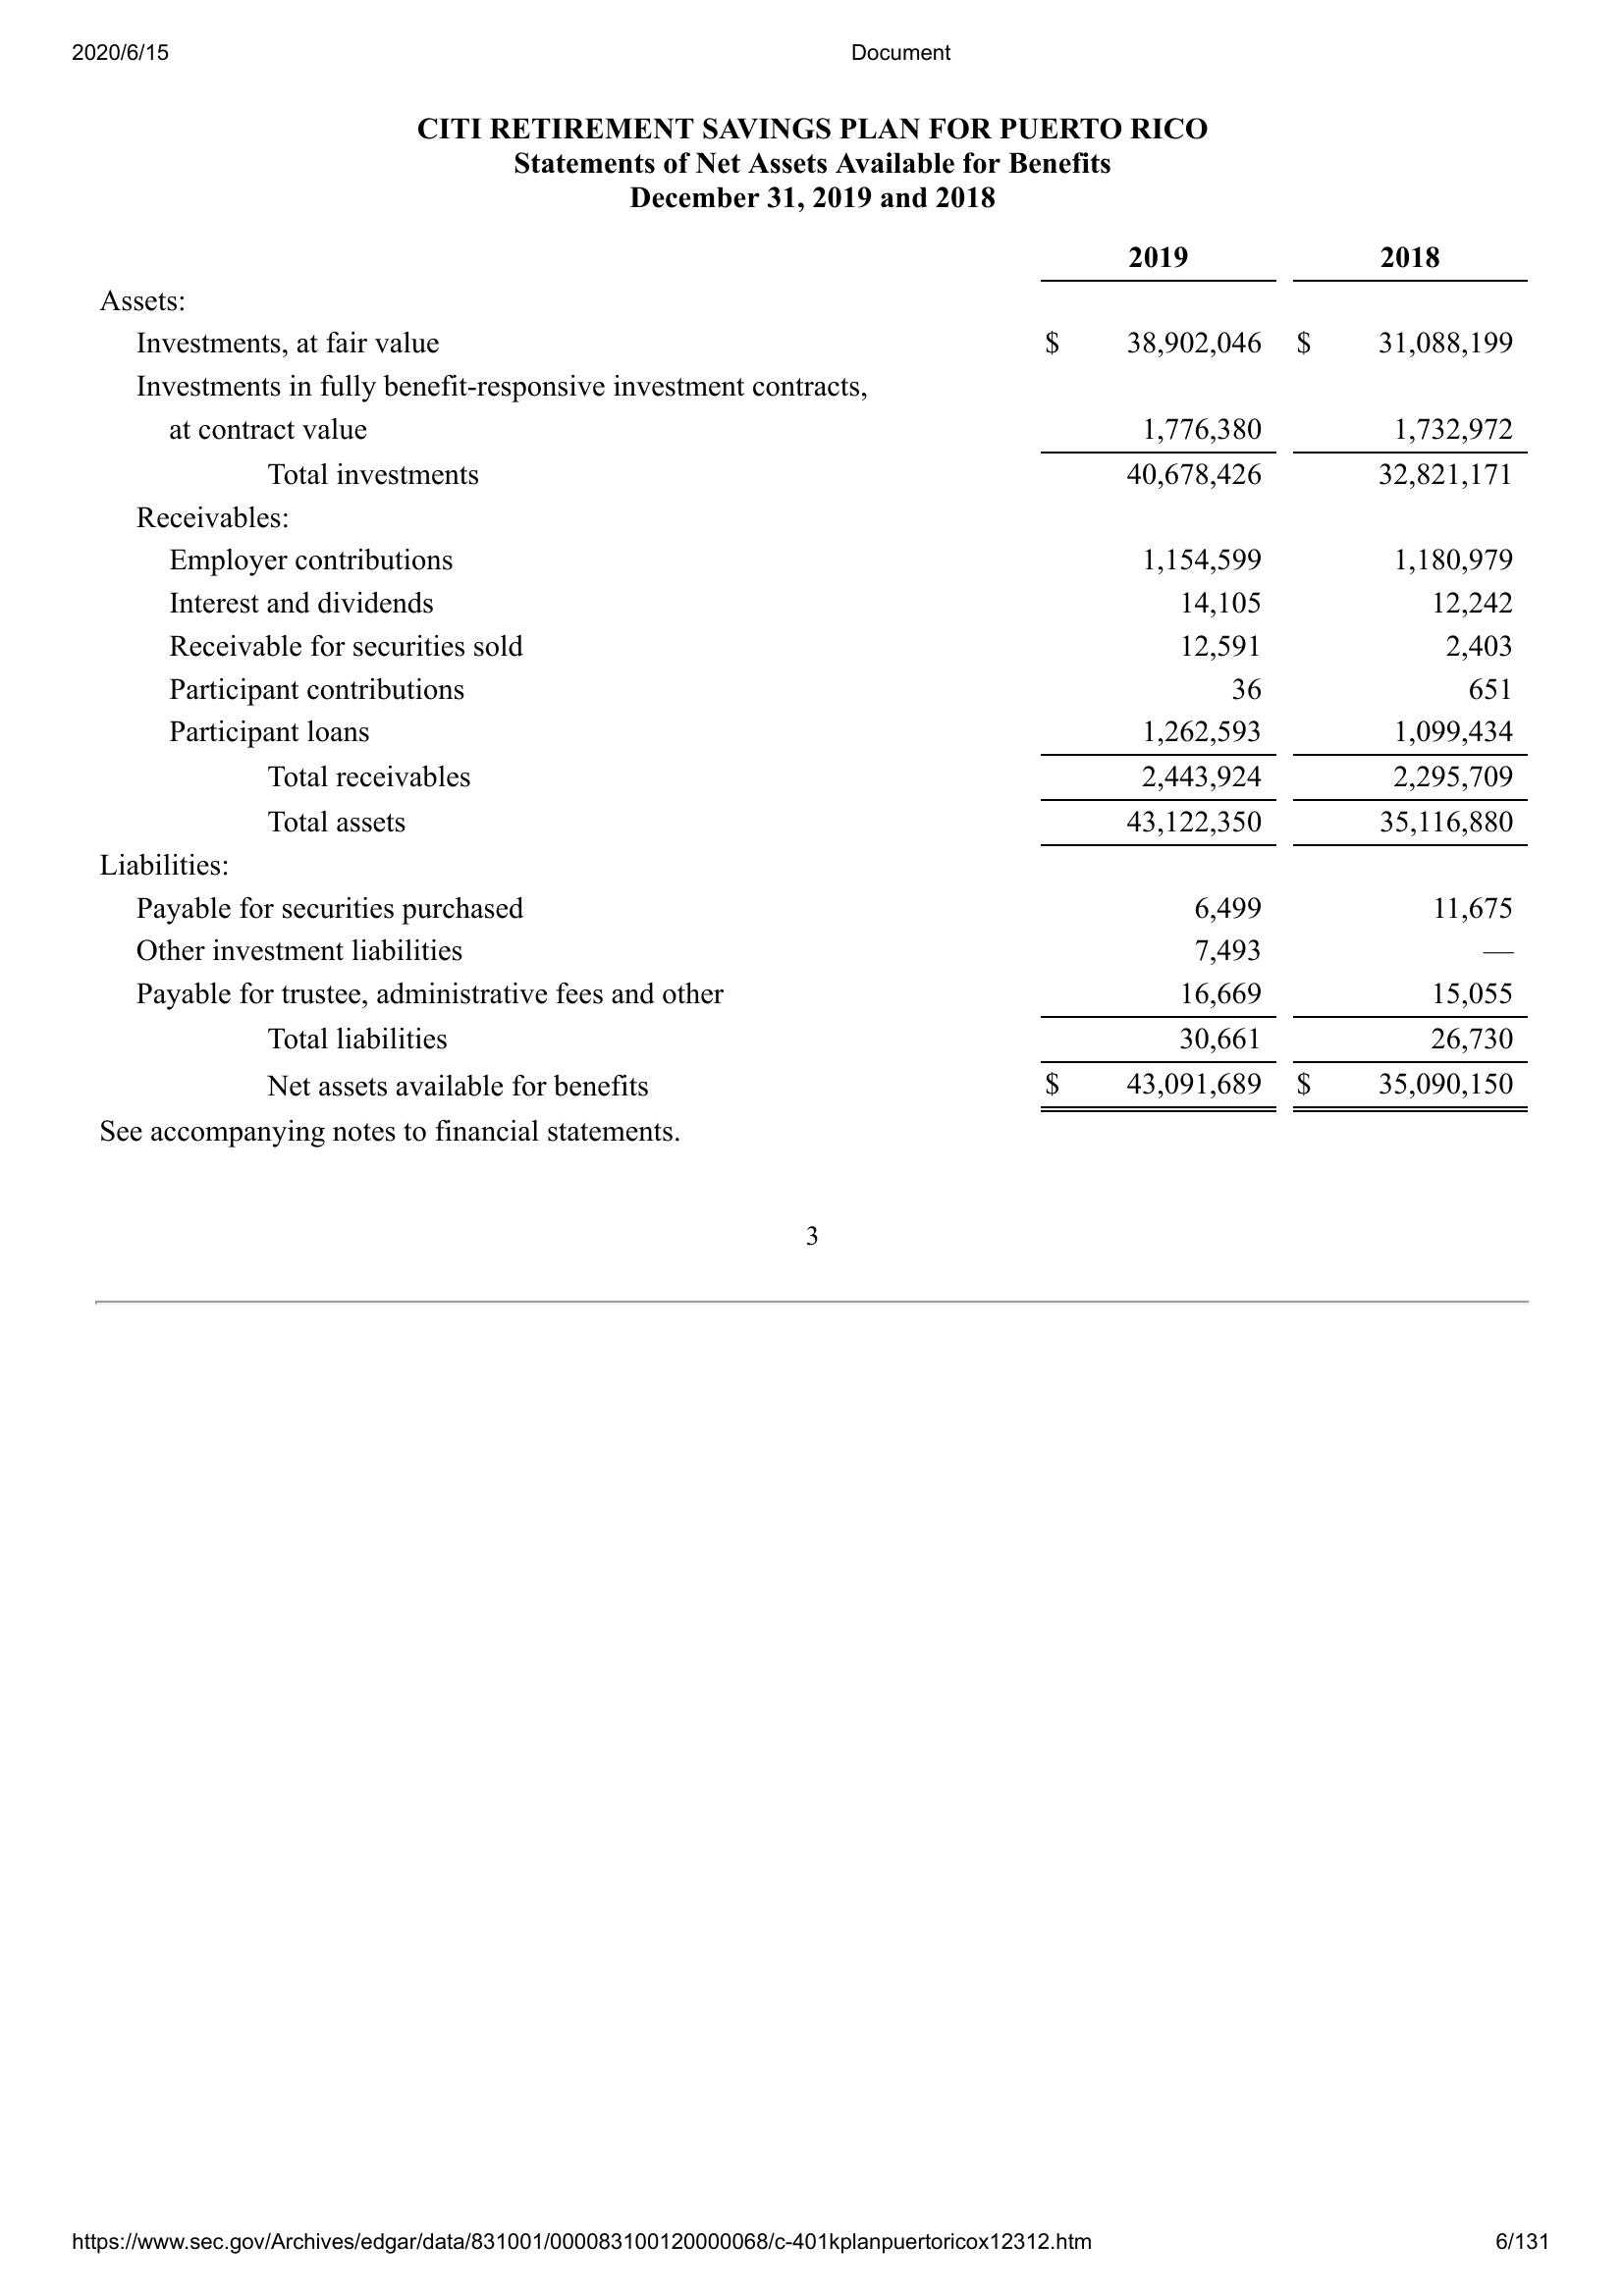table: (86, 235, 1533, 1123)
